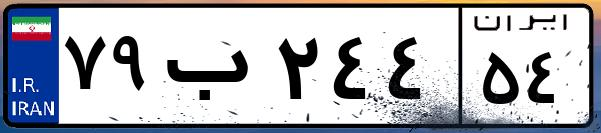2: (270, 28, 330, 110)
4: (385, 28, 445, 110), (330, 28, 385, 110), (525, 38, 570, 115)
5: (475, 38, 525, 113)
7: (57, 26, 110, 100)
9: (110, 28, 158, 98)
ب: (158, 20, 270, 120)
